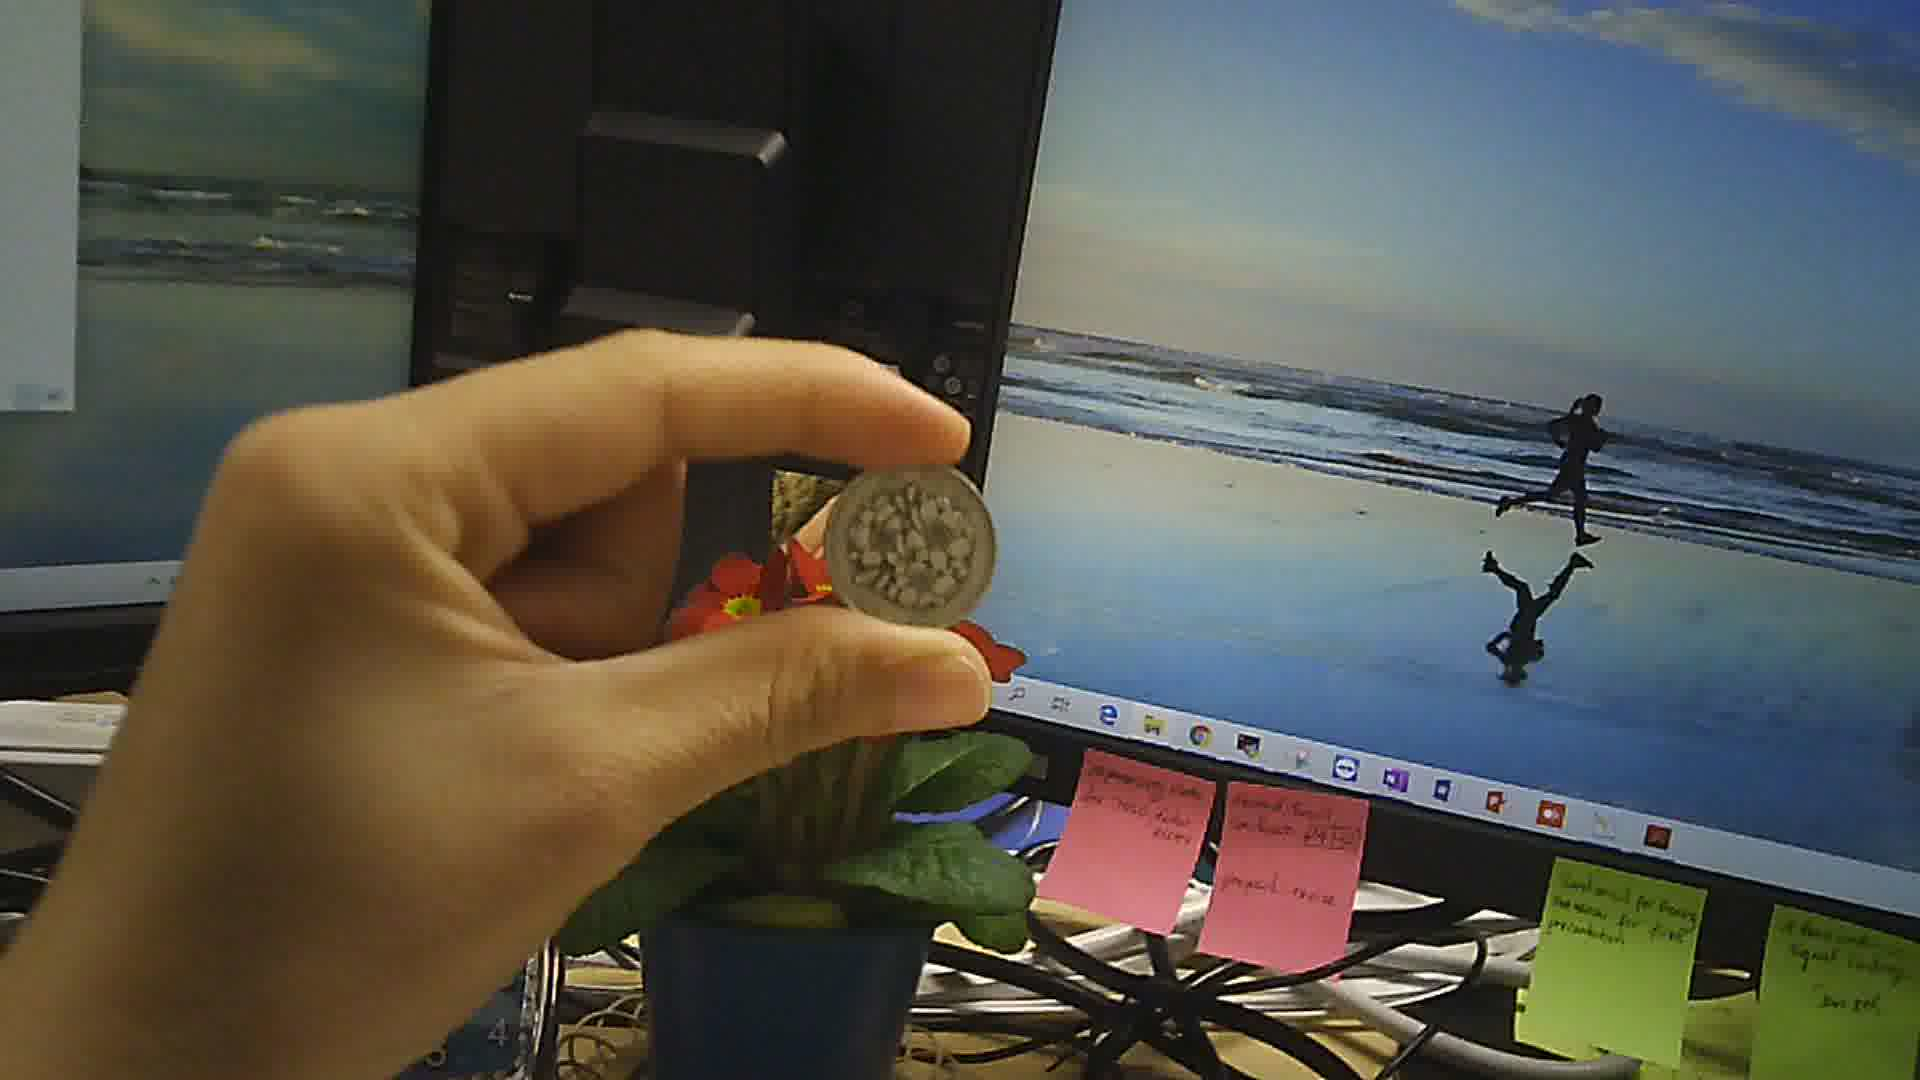100 Yen: (824, 444, 1009, 637)
